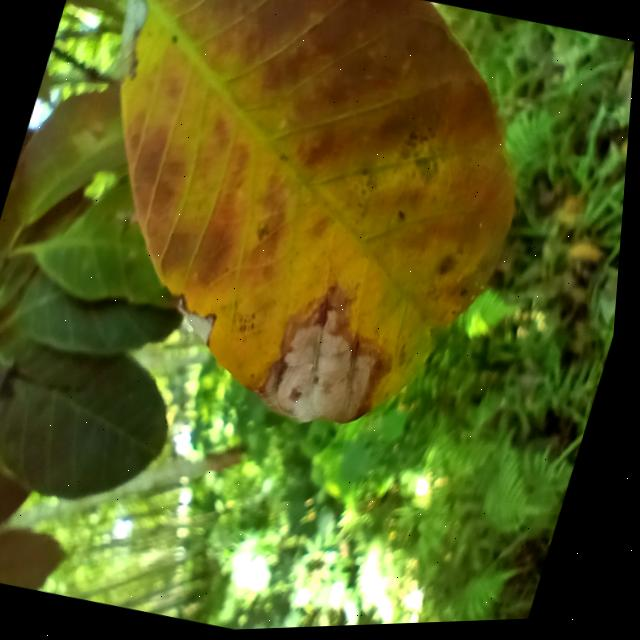Leaf-Blight: (253, 297, 397, 440), (100, 0, 160, 90), (173, 302, 222, 345)
